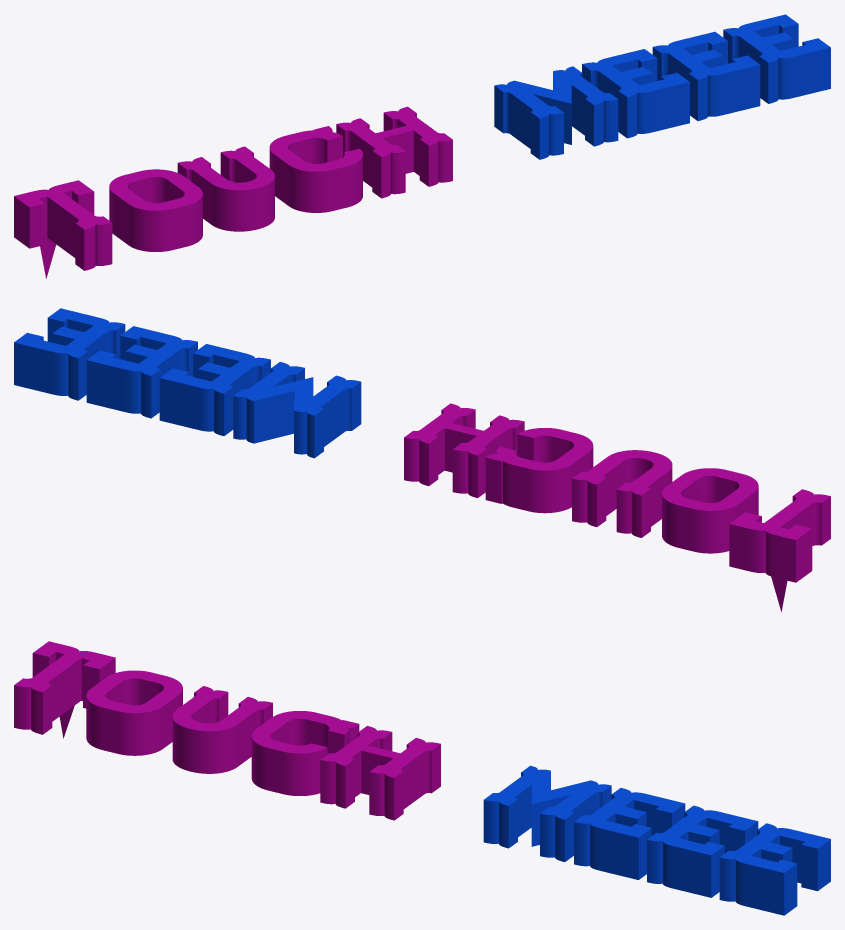
The model's file is TouchMe.fbx.
3 views of the same model, one above another, from view 1: azimuth 30°, elevation 25°; view 2: azimuth 150°, elevation 25°; view 3: azimuth 330°, elevation 25° (orthographic). The views are drawn at different scales.
Visible parts, largest first — view 1: Text; view 2: Text; view 3: Text.
Part boxes in pixels (x1,y1,x2,y2): Text: (14, 14, 830, 278); Text: (14, 308, 830, 612); Text: (14, 641, 830, 915).
Bounding box in the file's own units: 911 × 94 × 109.
